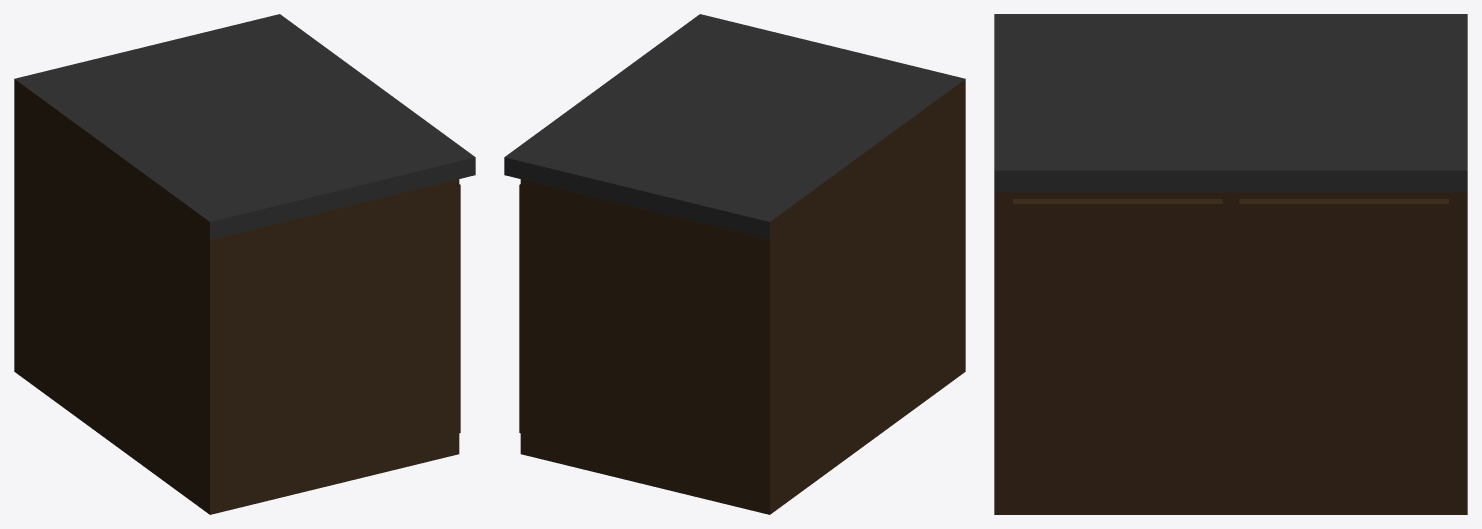
File: KitchenCabinet.FBX
3 views of the same model, side by side, from view 1: azimuth 30°, elevation 25°; view 2: azimuth 150°, elevation 25°; view 3: azimuth 270°, elevation 25° (orthographic). The views are drawn at different scales.
Parts seen in each view (by area): view 1: Box019; view 2: Box019; view 3: Box019.
Boxes of the visible parts, left/top/right/bottom form: Box019: left=14, top=14, right=475, bottom=514; Box019: left=504, top=14, right=965, bottom=514; Box019: left=994, top=14, right=1467, bottom=514.
Bounding box in the file's own units: 30.92 × 32.58 × 39.47.
